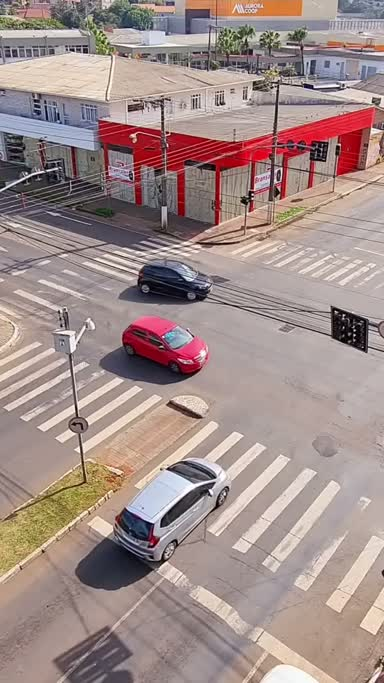car: (102, 452, 237, 570), (123, 313, 211, 383), (130, 254, 221, 308)
